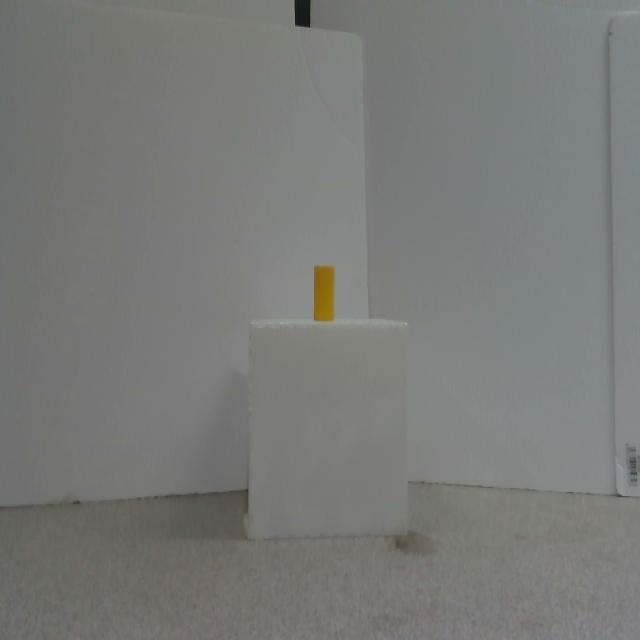yellow_cylinder: (314, 265, 335, 321)
